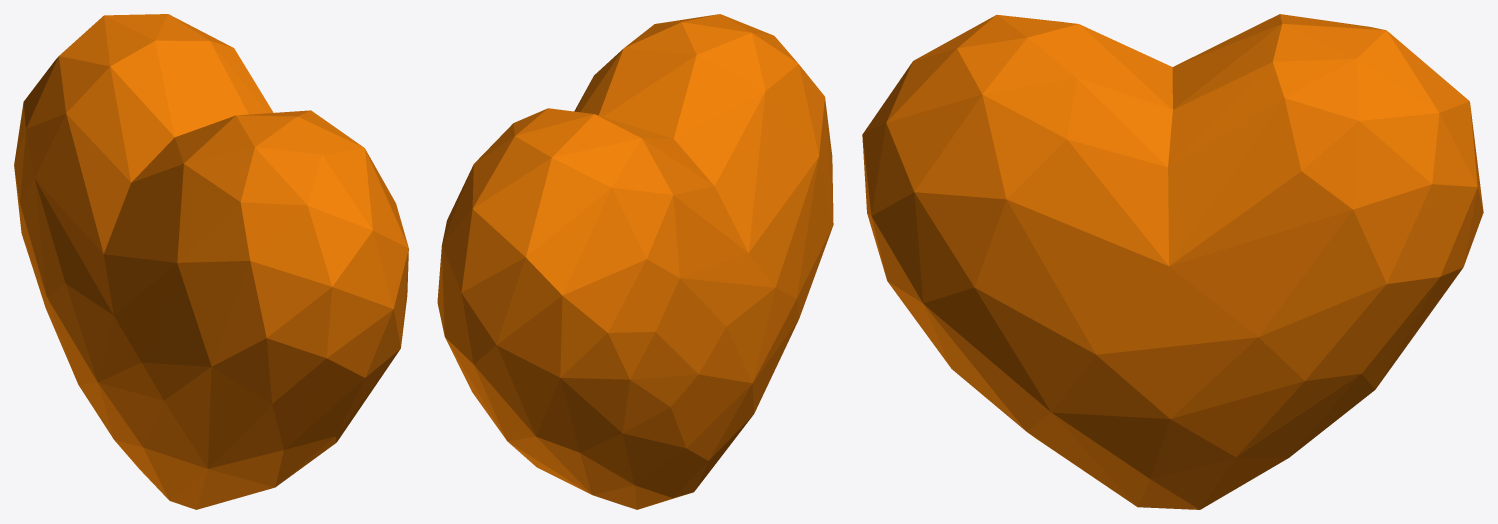
The model's file is heart_orange.fbx.
3 renders of one model, left to right at view 1: azimuth 30°, elevation 25°; view 2: azimuth 150°, elevation 25°; view 3: azimuth 270°, elevation 25°, orthographic. The views are drawn at different scales.
Visible parts, largest first — view 1: Love; view 2: Love; view 3: Love.
Part boxes in pixels (bbox=[...]): Love: bbox=[14, 14, 408, 509]; Love: bbox=[437, 14, 833, 509]; Love: bbox=[862, 14, 1483, 509].
Size of the model in its own units: 64.86 by 110 by 132.
